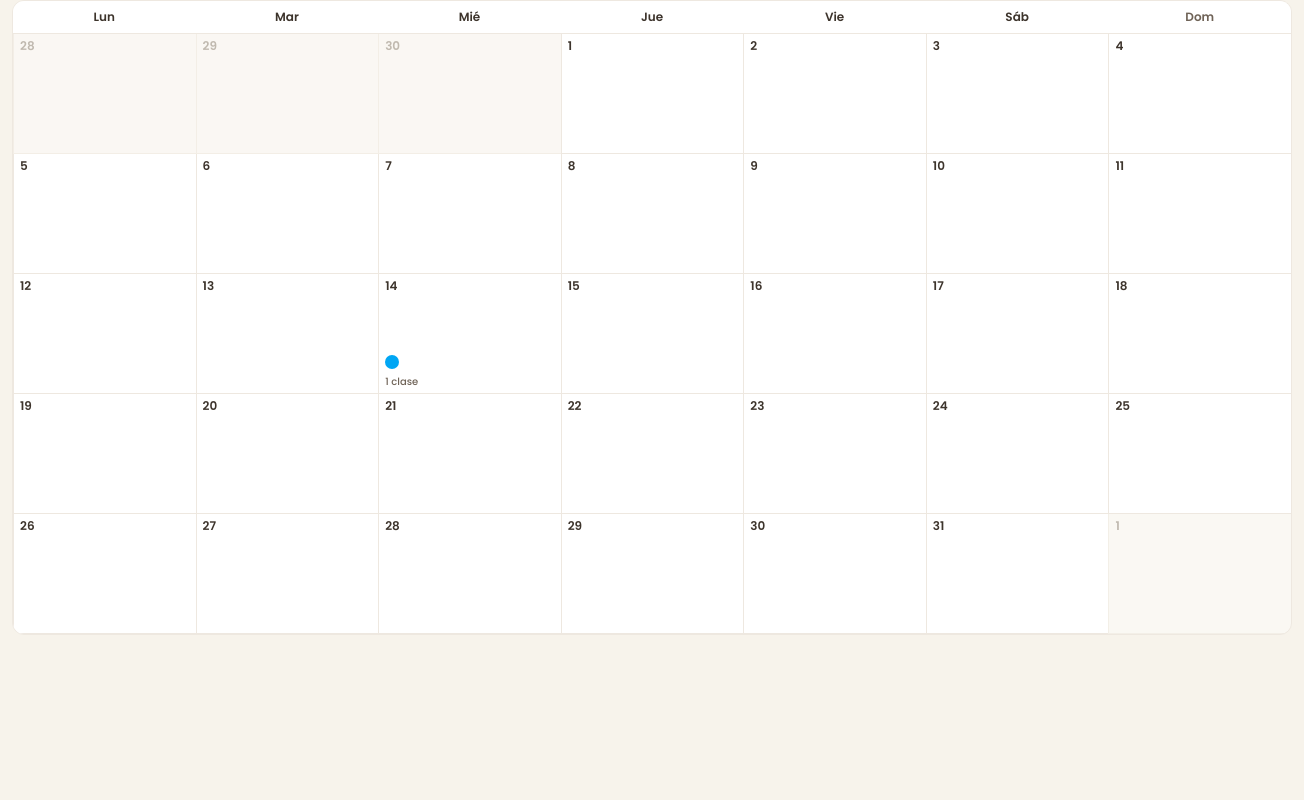
Test case: MesGrupal › al pasar el mouse por un punto muestra la clase y sus anotadas
The width and height of the screenshot is (1304, 800).
Expected: the text "Lucía Pérez" is not shown
Hover over the element with test id "punto-pil" at (392, 362), box [385,355,399,369]
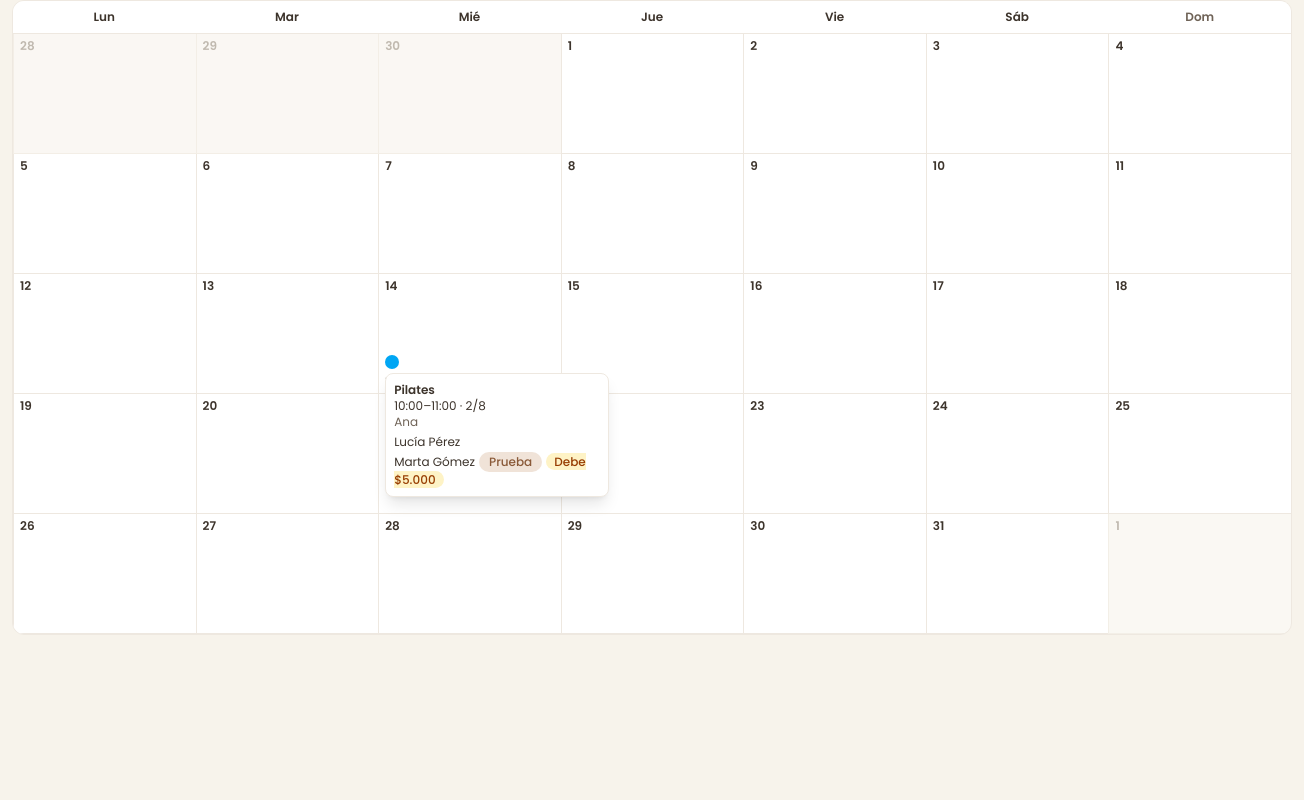
Result: the text "Pilates" is shown at [394,381,435,398]
Result: the list item "Lucía Pérez" is shown at [394,433,460,450]
Result: the list item "Marta Gómez" is shown at [394,453,475,470]
